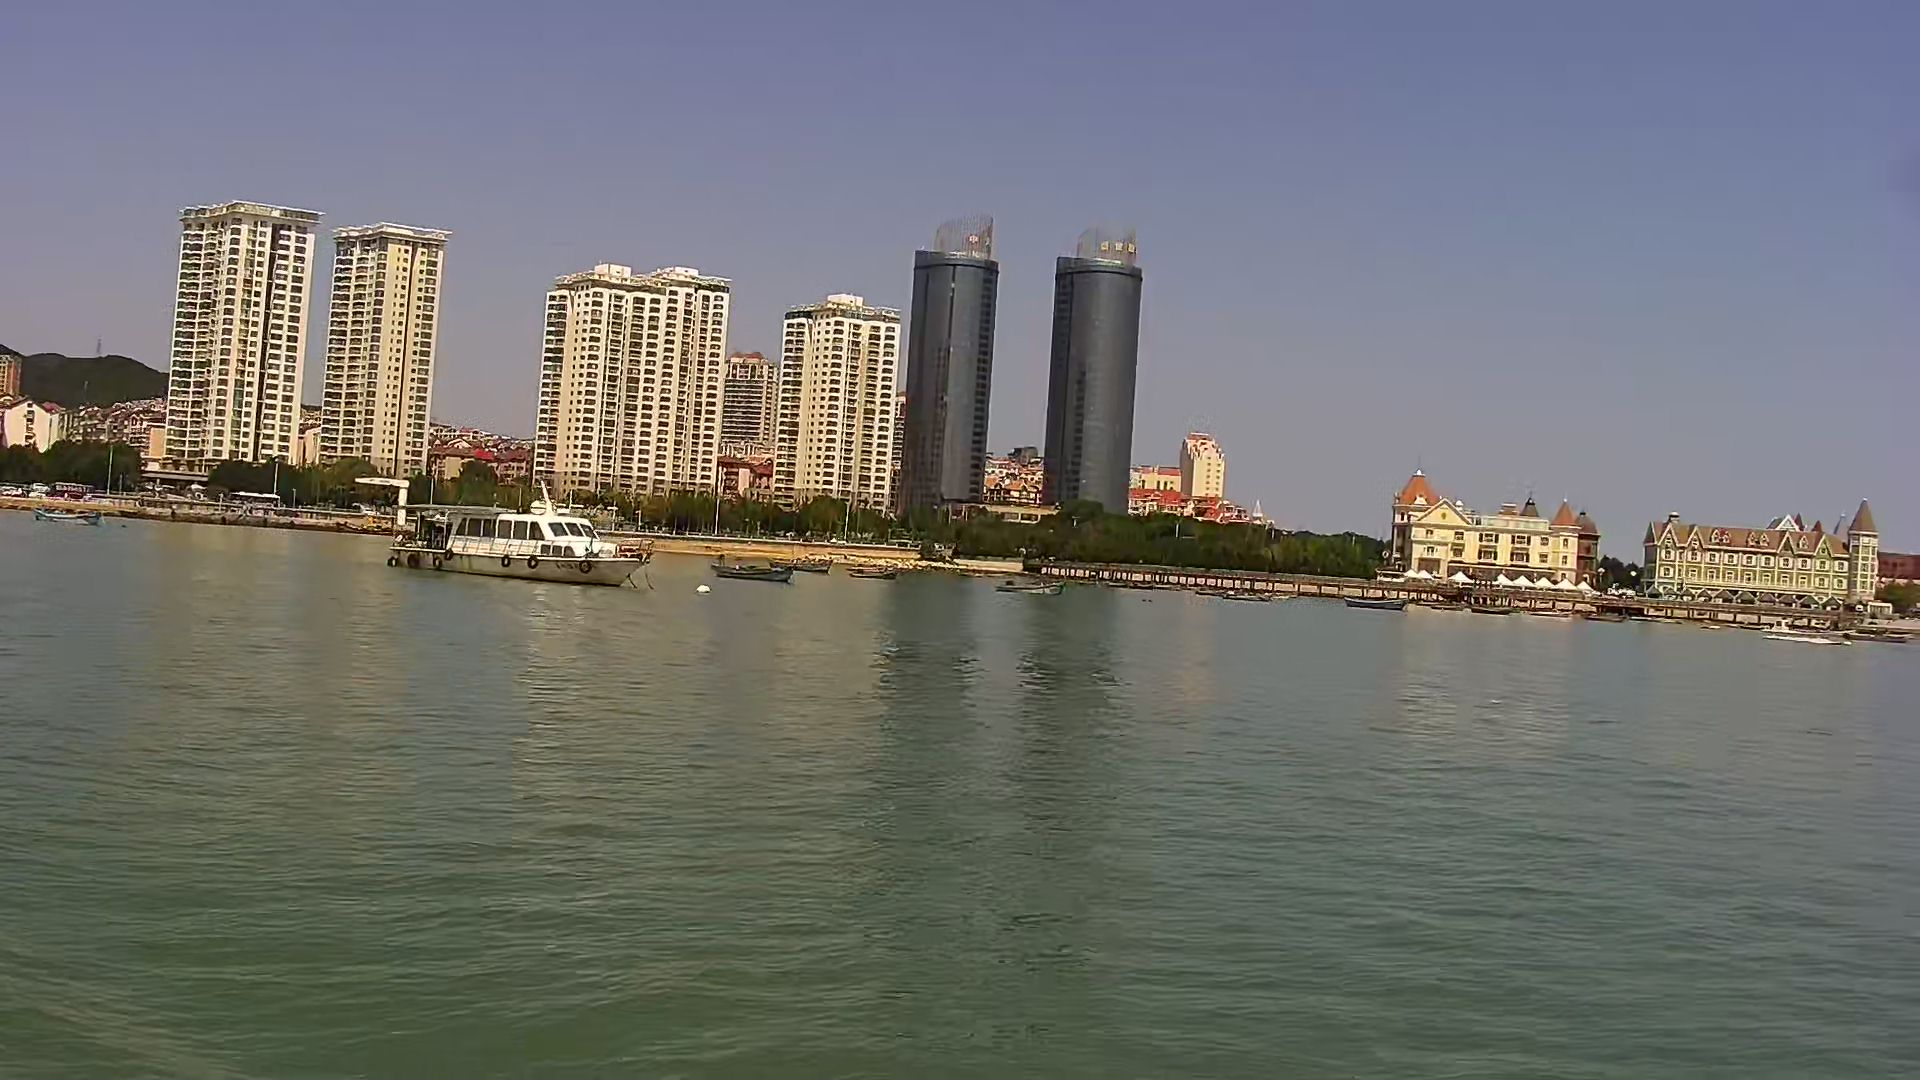ball: (696, 583, 712, 597)
boat: (25, 502, 109, 527), (712, 554, 796, 579), (993, 576, 1067, 597)
ship: (382, 477, 647, 589)
